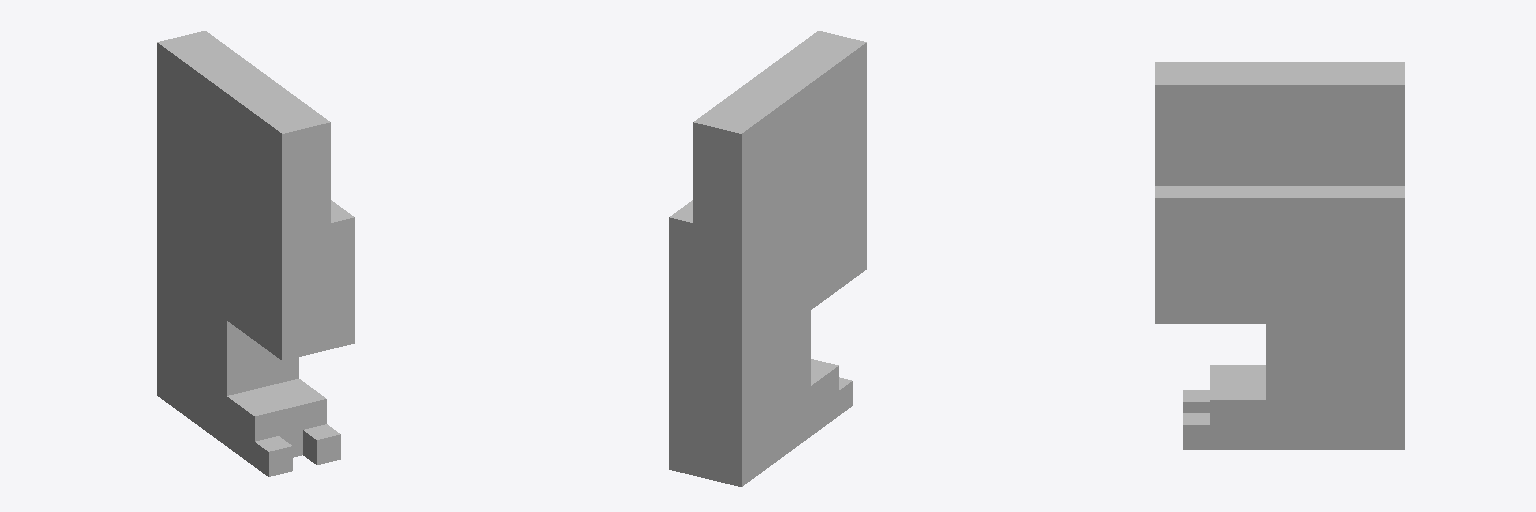
The model's file is rightleg.obj.
3 renders of one model, left to right at view 1: azimuth 30°, elevation 25°; view 2: azimuth 150°, elevation 25°; view 3: azimuth 270°, elevation 25°, orthographic.
Bounding box in the file's own units: 3 × 14 × 9.